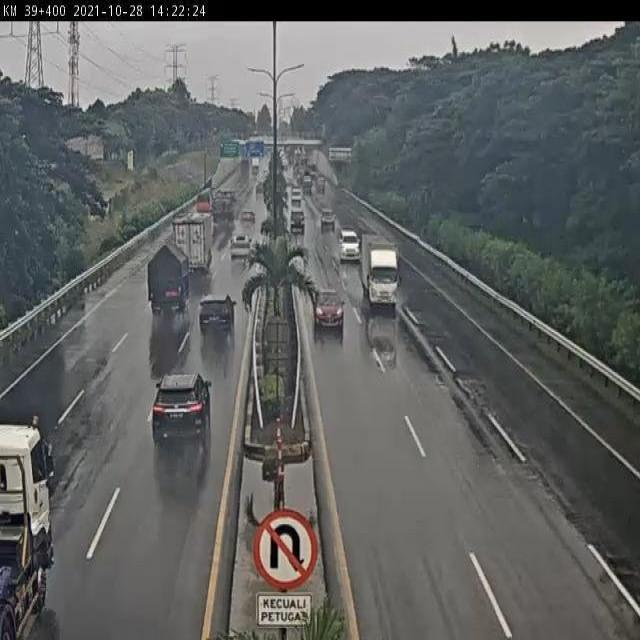car: (195, 292, 237, 344), (337, 229, 361, 264), (227, 231, 251, 264)
truck: (145, 244, 192, 319), (358, 233, 401, 308), (170, 213, 214, 279)
